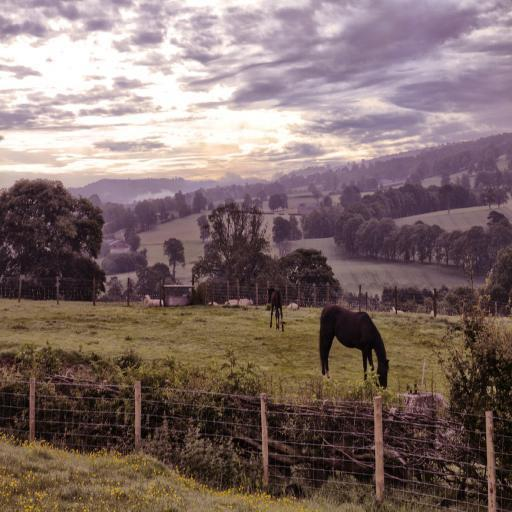horse: (318, 302, 390, 392), (266, 284, 284, 334)
